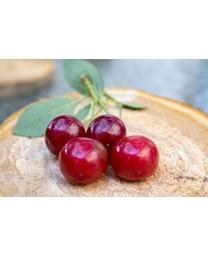cherry: (58, 136, 109, 184), (110, 135, 160, 182), (44, 114, 87, 158), (87, 114, 128, 156)
